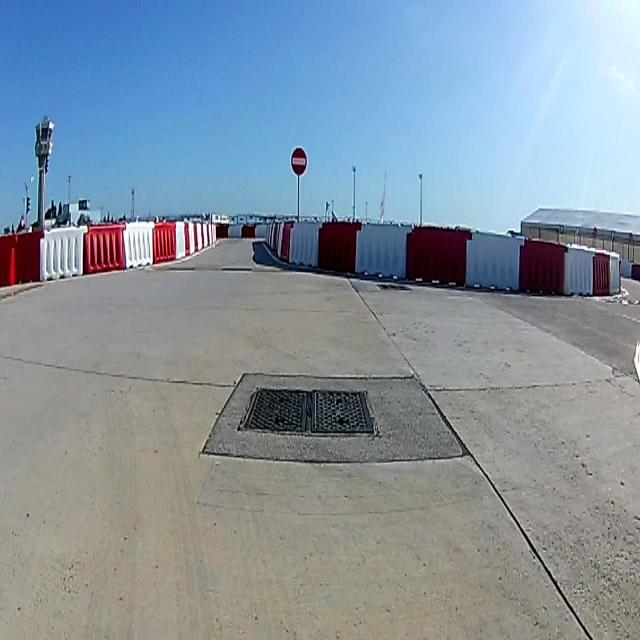girisyok: (290, 148, 308, 176)
